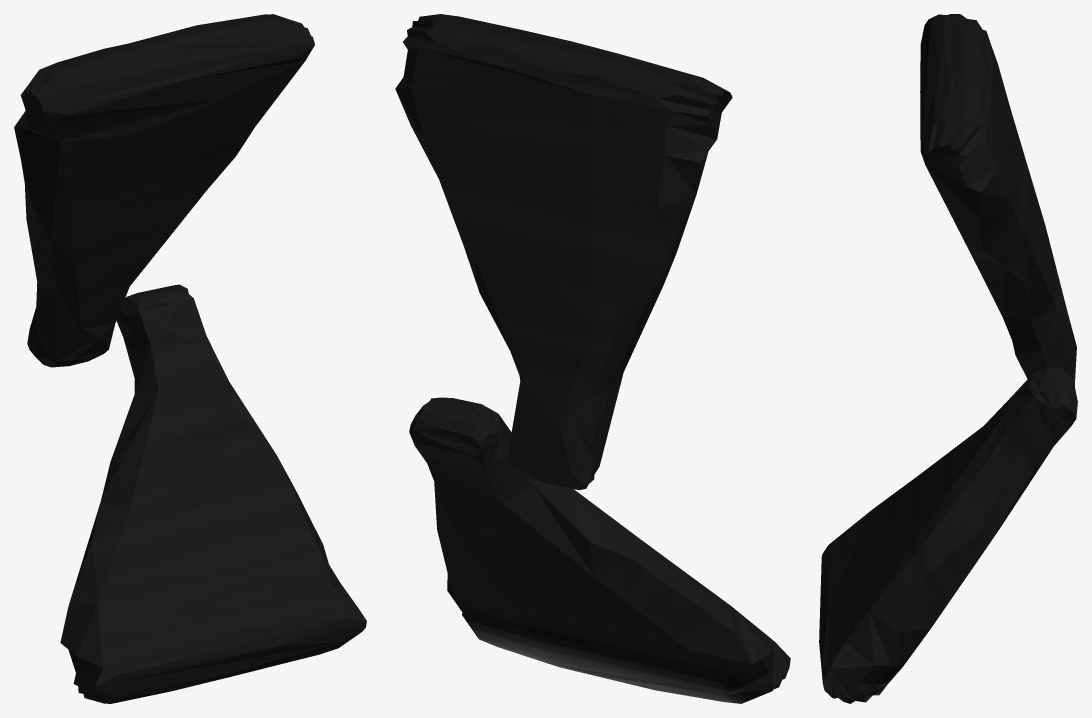
The model's file is erj195_gear_l.obj.
3 renders of one model, left to right at view 1: azimuth 30°, elevation 25°; view 2: azimuth 150°, elevation 25°; view 3: azimuth 270°, elevation 25°, orthographic. The views are drawn at different scales.
Size of the model in its own units: 0.1747 by 0.3688 by 0.1467.
1 material, 1 textured.
